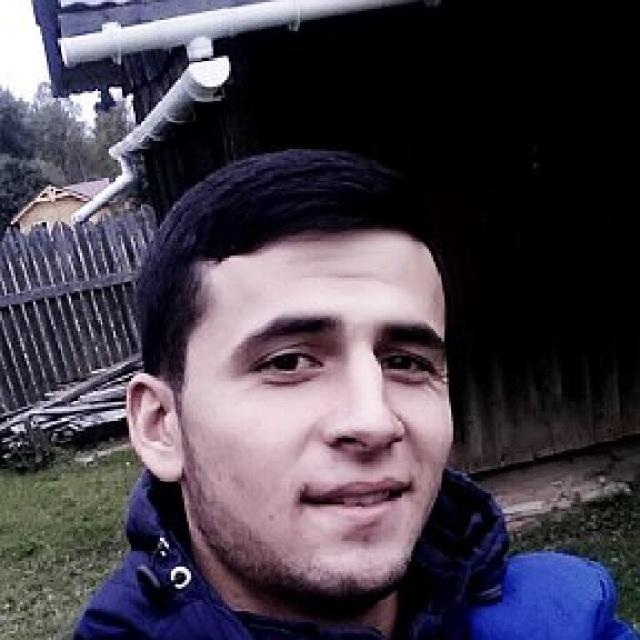earlobe: (126, 372, 184, 483)
